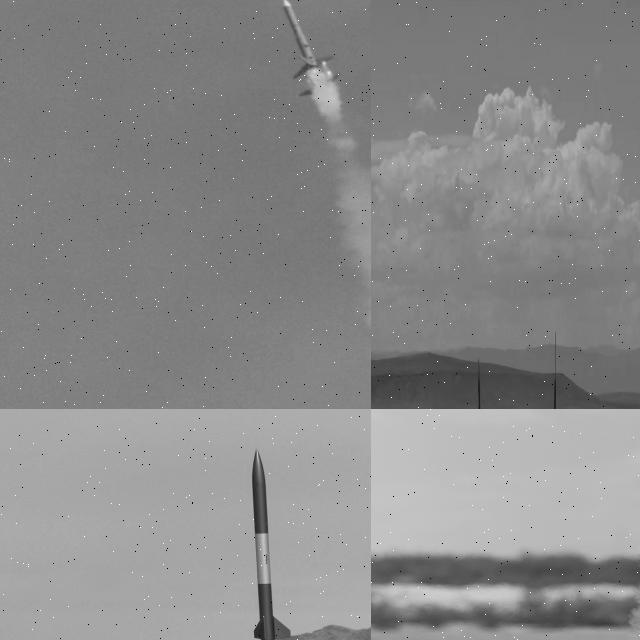Rocket: (250, 447, 291, 640), (280, 0, 343, 99), (477, 358, 481, 409), (551, 377, 557, 409)
